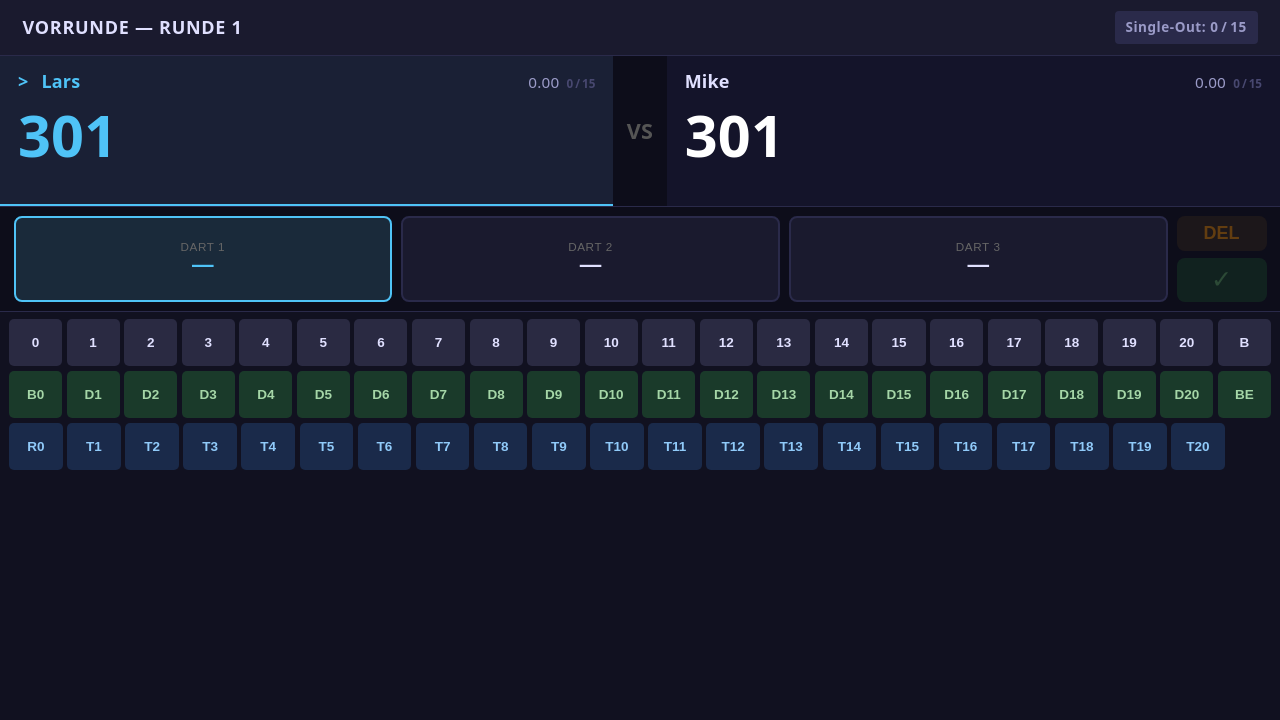
Test: ScoreEntryScreen › shows an error message when recordVisit fails
Check: the button "DEL" is shown, box x1=1176 y1=216 x2=1266 y2=251
Click the button "T20" at (1198, 446), box x1=1171 y1=423 x2=1225 y2=470
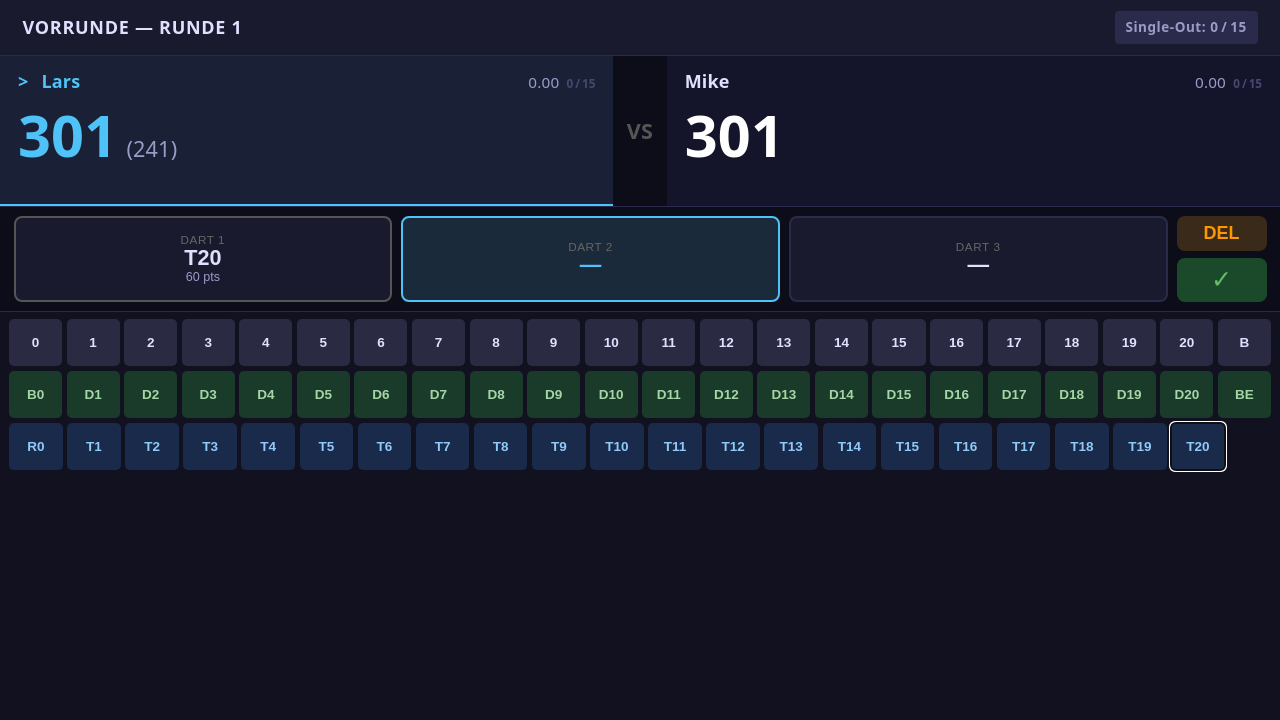
Click the button "✓" at (1222, 280), box x1=1176 y1=258 x2=1266 y2=302
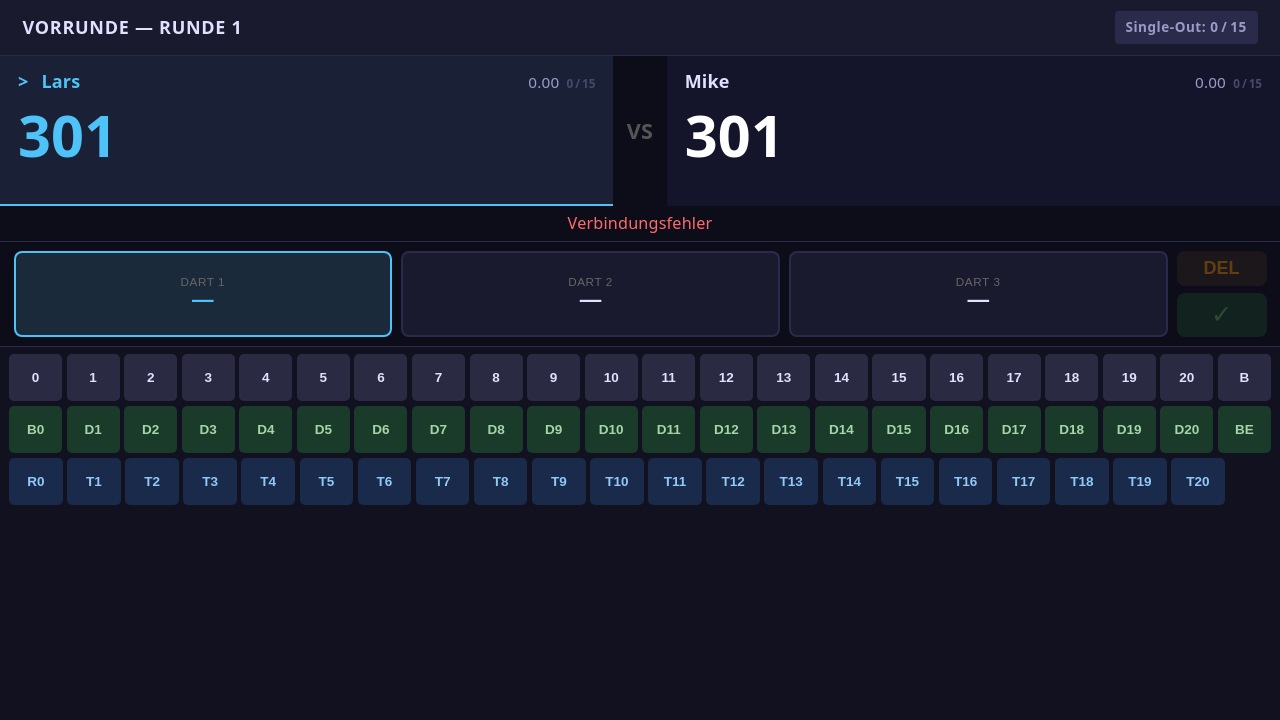
Check: the message reads "Verbindungsfehler", box x1=568 y1=212 x2=712 y2=234
